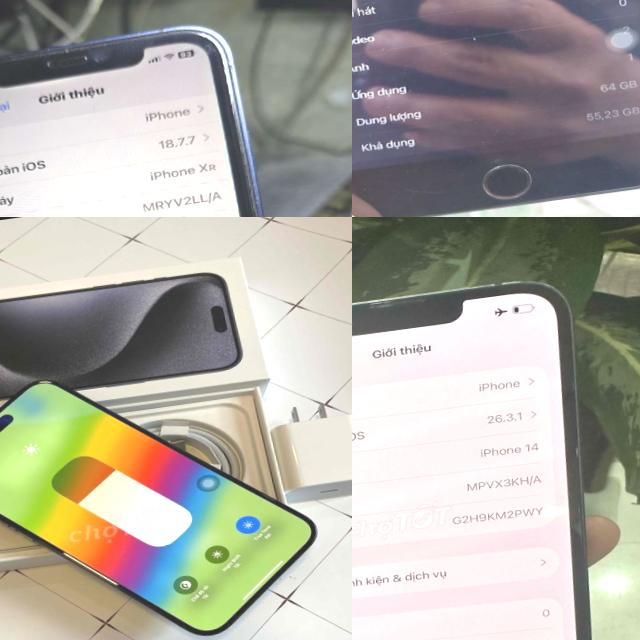scratch: (0, 12, 227, 101), (374, 175, 446, 205)
